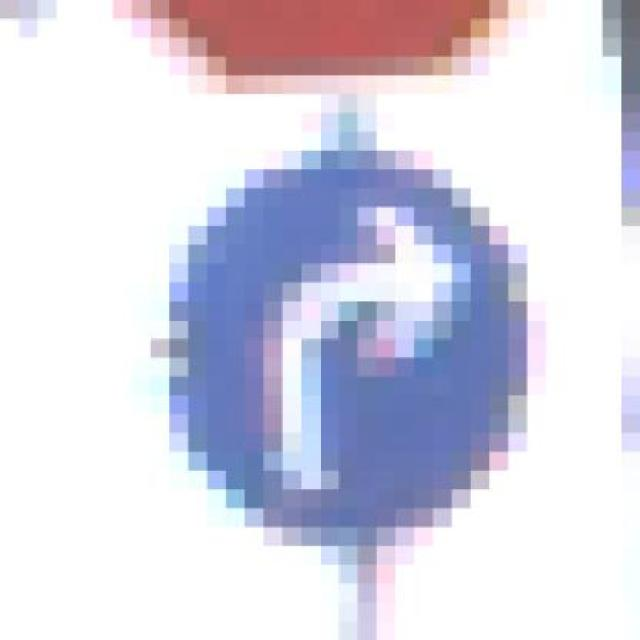Turn right ahead: (132, 112, 546, 565)
